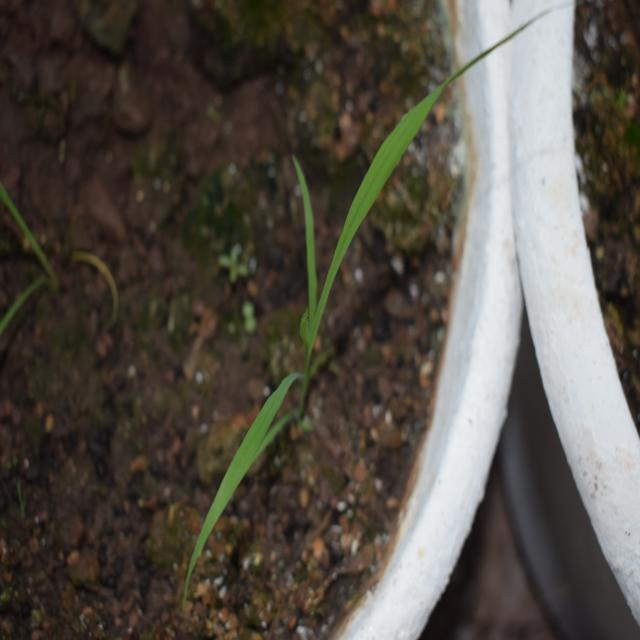barnyard_grass: (162, 31, 507, 552)
